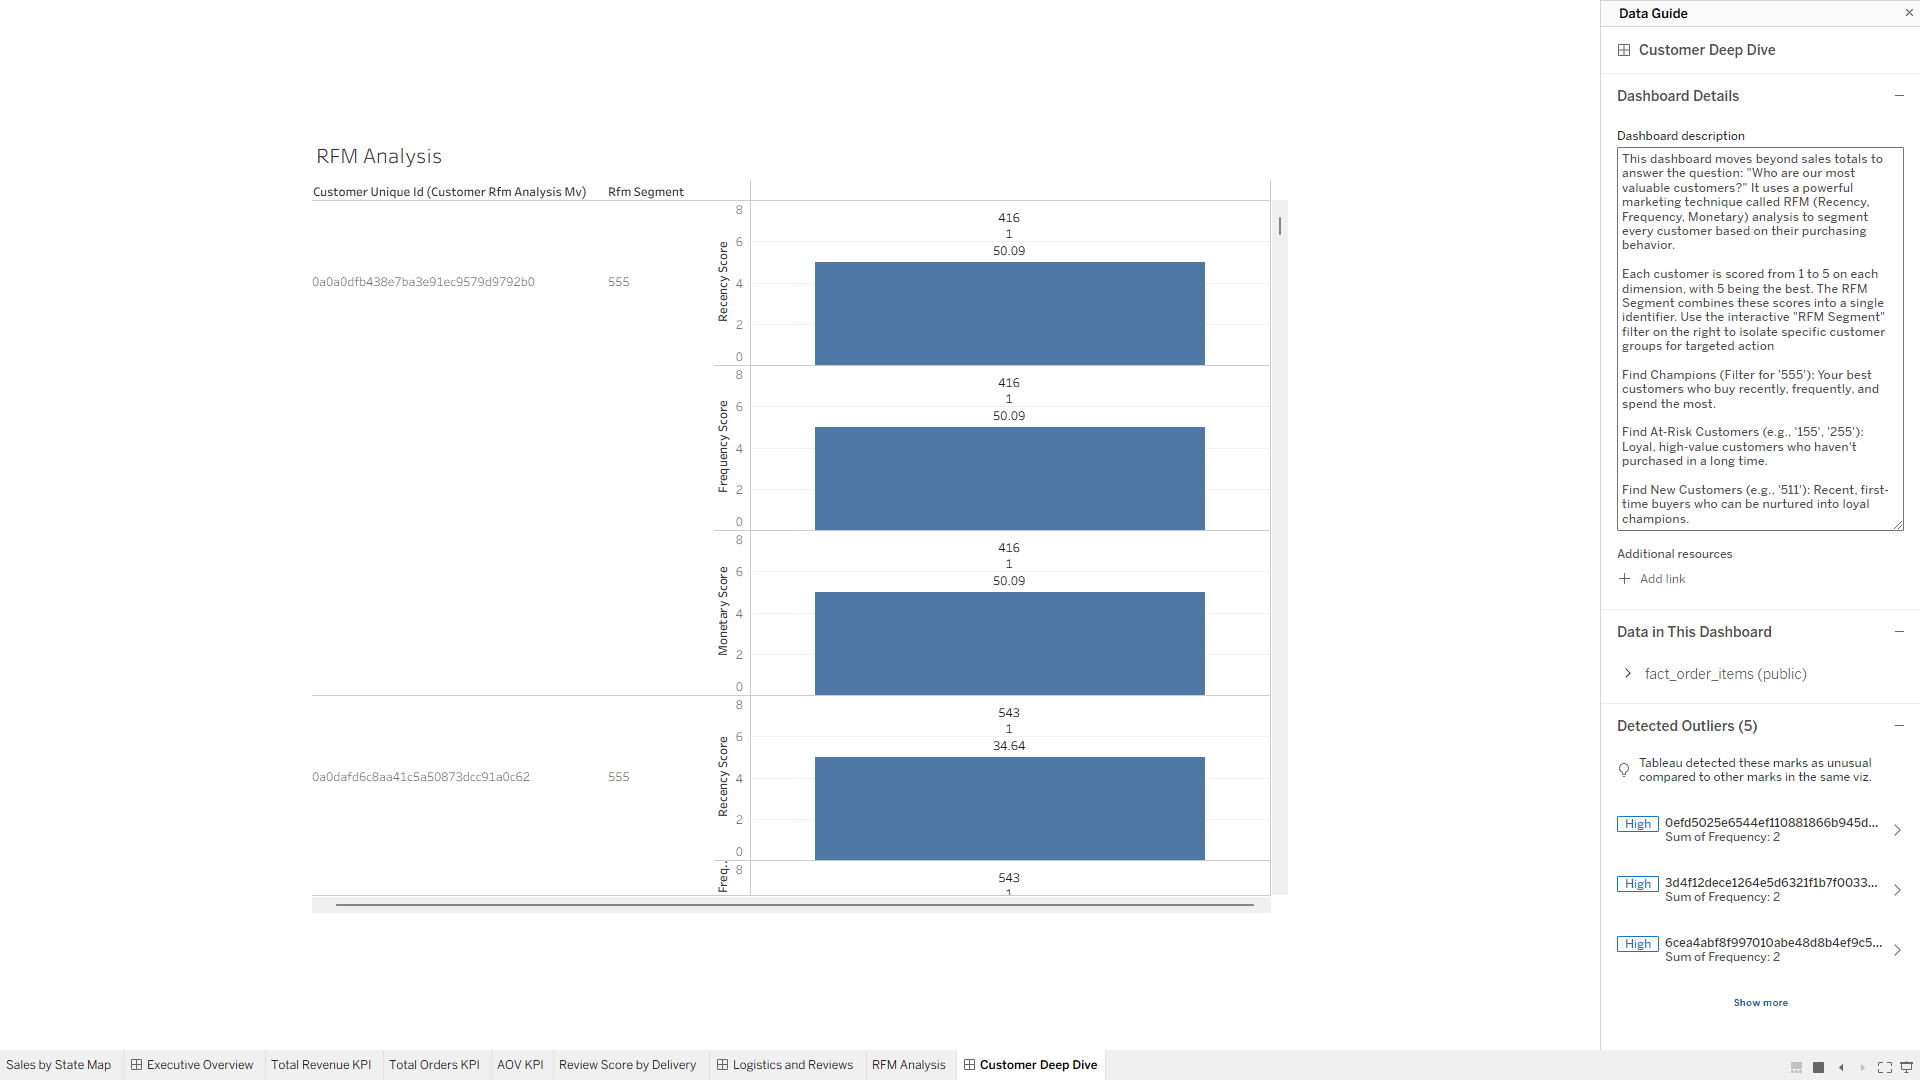

Layout of this report page (visuals, bound fields, positions):
{"tool":"tableau","page":{"name":"Customer Deep Dive","canvas":[1000,800],"ordinal":0},"visuals":[{"type":"worksheet","title":"RFM Analysis","mark":"Automatic","rows":["customer_unique_id (customer_rfm_analysis_mv)","rfm_segment","recency_score","frequency_score","monetary_score"],"box":[8,8,984,784]}]}

Visuals, with their boxes on the page's 1000x800 design canvas (x1, y1, x2, y2). These are canvas units, not pixel positions in the 1920x1080 screenshot, which may show the page scaled, cropped or inside an application window:
"RFM Analysis" worksheet: <region>8, 8, 992, 792</region>
